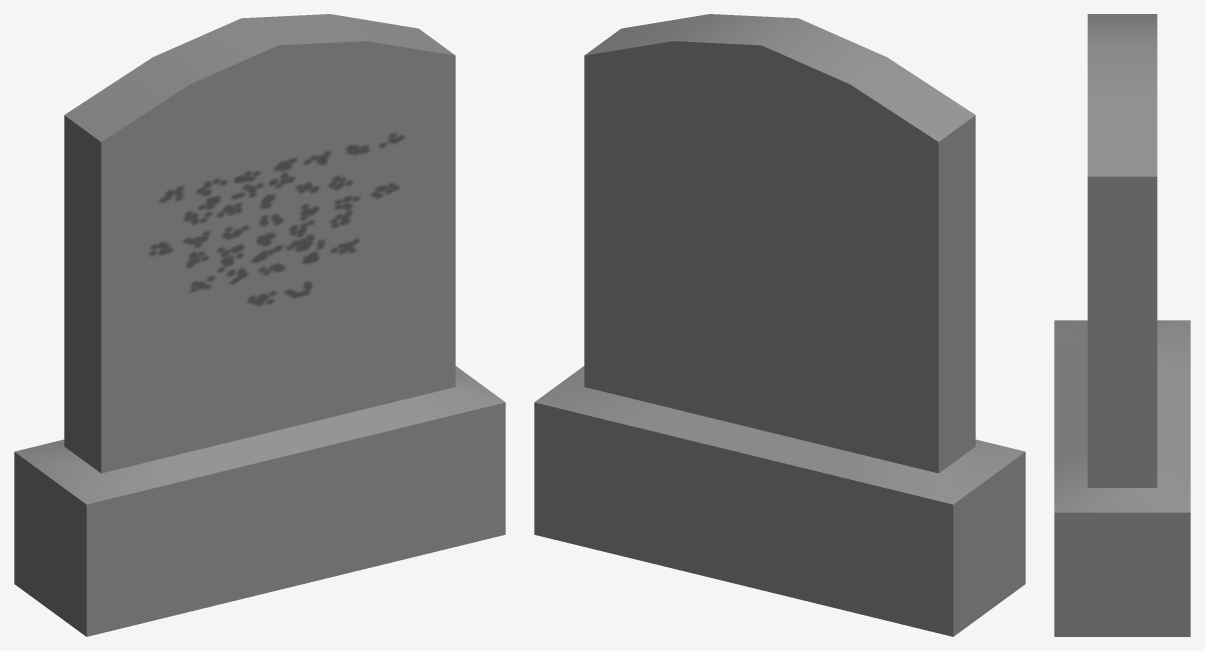
Rendered from Tombstone 1.fbx.
The picture shows the model from 3 angles, left to right: view 1: azimuth 30°, elevation 25°; view 2: azimuth 150°, elevation 25°; view 3: azimuth 270°, elevation 25°; orthographic projection. The views are drawn at different scales.
Visible parts, largest first — view 1: Tombstone 1; view 2: Tombstone 1; view 3: Tombstone 1.
Part boxes in pixels (bbox=[...]): Tombstone 1: bbox=[14, 14, 505, 636]; Tombstone 1: bbox=[534, 14, 1025, 636]; Tombstone 1: bbox=[1054, 14, 1190, 636].
Bounding box in the file's own units: 104 × 125 × 31.03.
